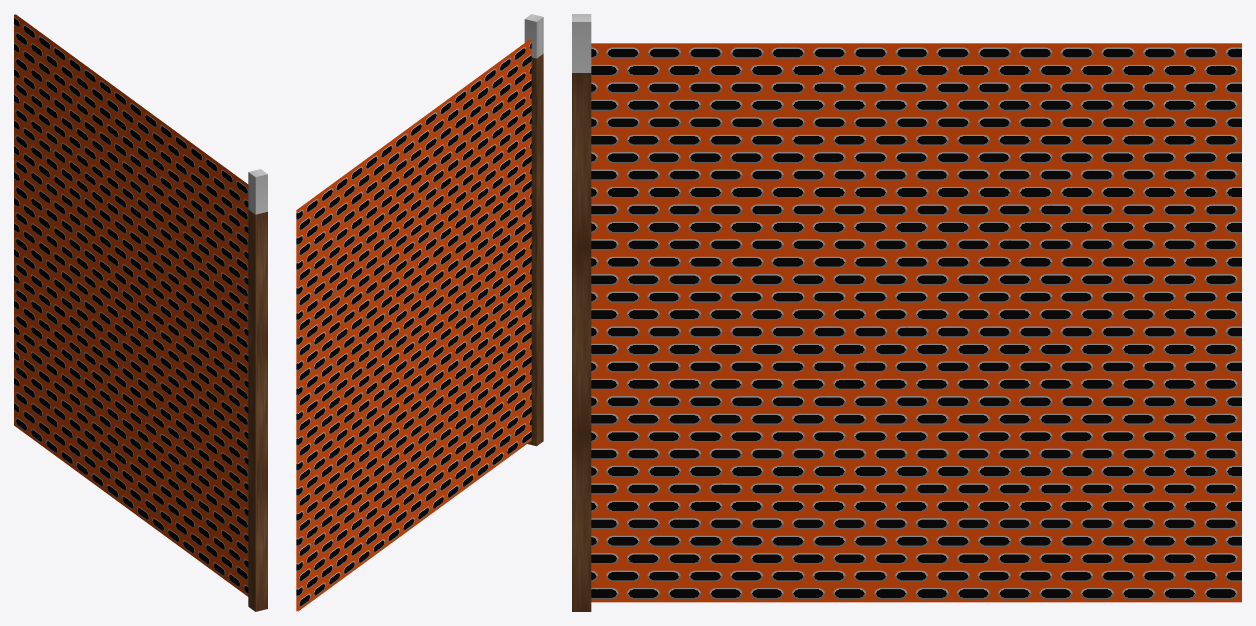
Rendered from PlasticStartFenceTall.fbx.
The picture shows the model from 3 angles, left to right: view 1: azimuth 30°, elevation 25°; view 2: azimuth 150°, elevation 25°; view 3: azimuth 270°, elevation 25°; orthographic projection. The views are drawn at different scales.
Parts seen in each view (by area): view 1: Plane#2, Cylinder#2; view 2: Plane#2, Cylinder#2; view 3: Plane#2, Cylinder#2.
Boxes of the visible parts, <box> form: Plane#2: <box>14,14,248,596</box>; Cylinder#2: <box>248,169,267,611</box>; Plane#2: <box>296,39,531,611</box>; Cylinder#2: <box>524,14,543,446</box>; Plane#2: <box>591,43,1241,602</box>; Cylinder#2: <box>572,14,591,611</box>.
Bounding box in the file's own units: 0.117 × 3.94 × 4.06.
4 materials, 4 textured.
